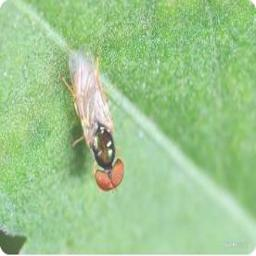liriomyza: (58, 46, 126, 192)
